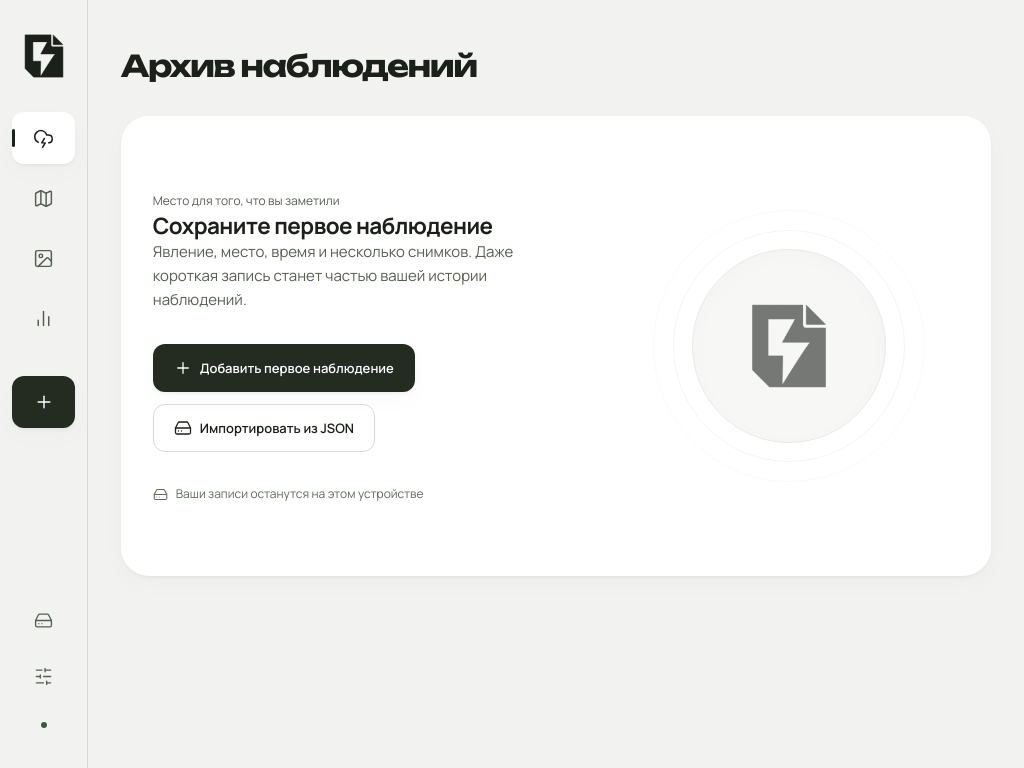
Test case: failure handling › keeps the user input on screen when saving fails
Click the button "Добавить первое наблюдение": (284, 368) [153,344,415,392]
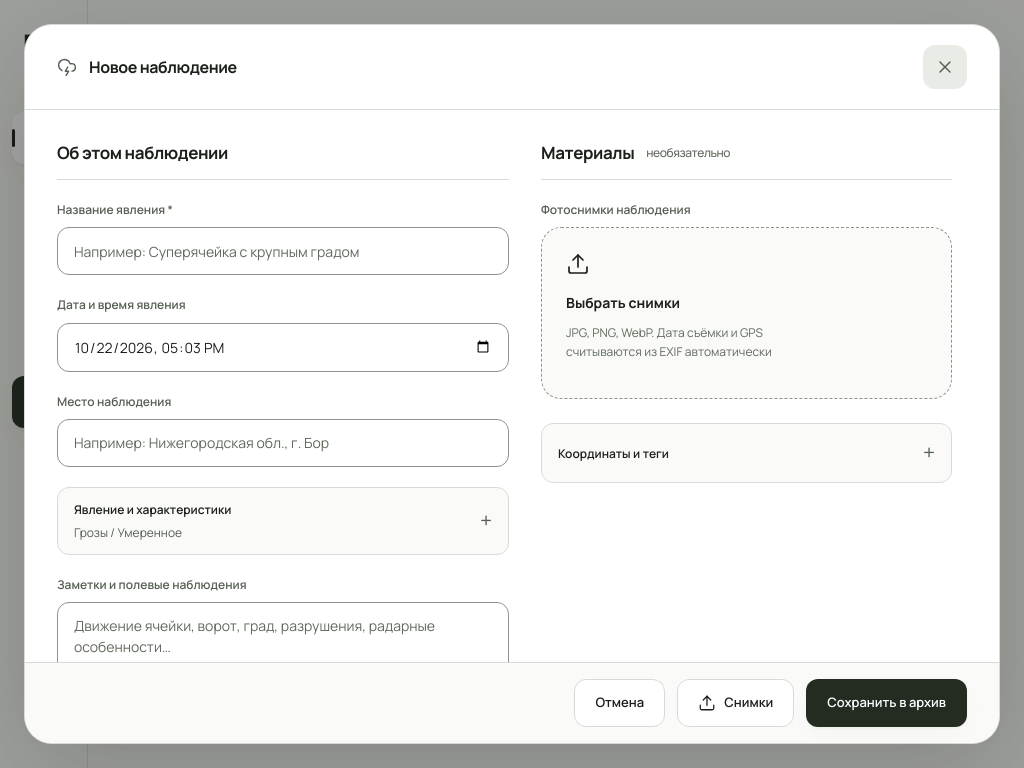
In the field labelled "Название явления *": (283, 251) [57,227,509,275], type "Не сохранится"
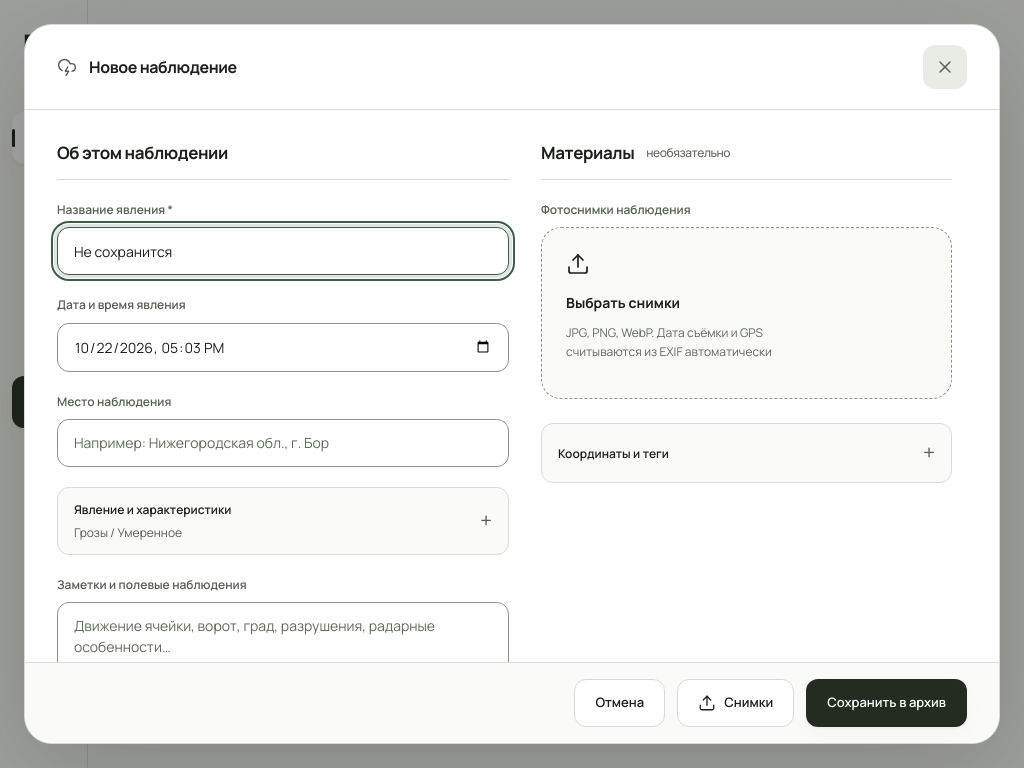
Click the button "Сохранить в архив": (887, 703) [806,679,967,727]
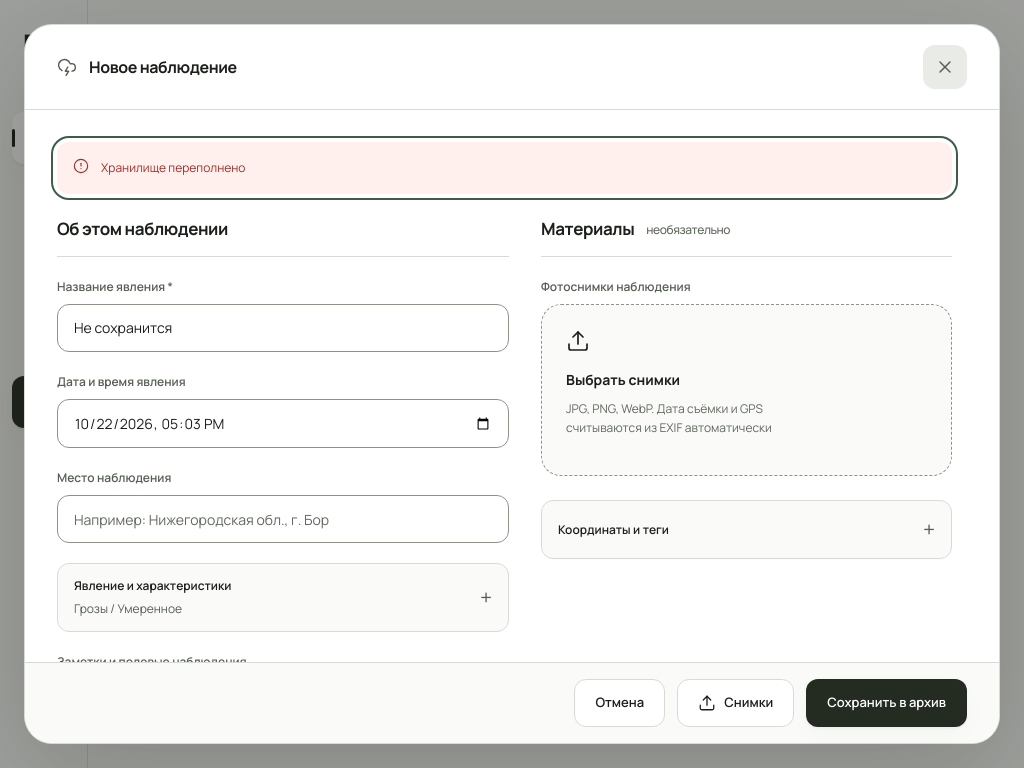
Check: the text "Хранилище переполнено" is shown, box [101,158,245,178]
